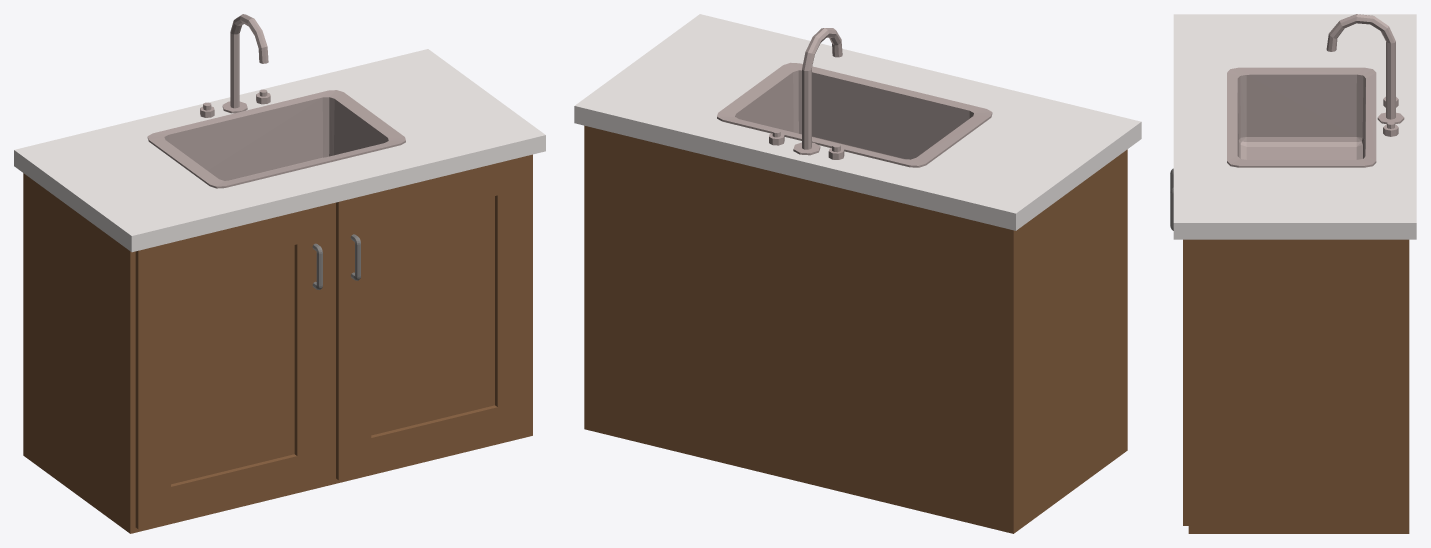
The model's file is Kitchen Tabletop_07.fbx.
3 renders of one model, left to right at view 1: azimuth 30°, elevation 25°; view 2: azimuth 150°, elevation 25°; view 3: azimuth 270°, elevation 25°, orthographic. The views are drawn at different scales.
Parts seen in each view (by area): view 1: Kitchen Tabletop_07; view 2: Kitchen Tabletop_07; view 3: Kitchen Tabletop_07.
Part boxes in pixels (<box>): Kitchen Tabletop_07: <box>14,14,545,533</box>; Kitchen Tabletop_07: <box>574,14,1141,533</box>; Kitchen Tabletop_07: <box>1170,14,1416,533</box>.
Size of the model in its own units: 127 by 119 by 63.28.
